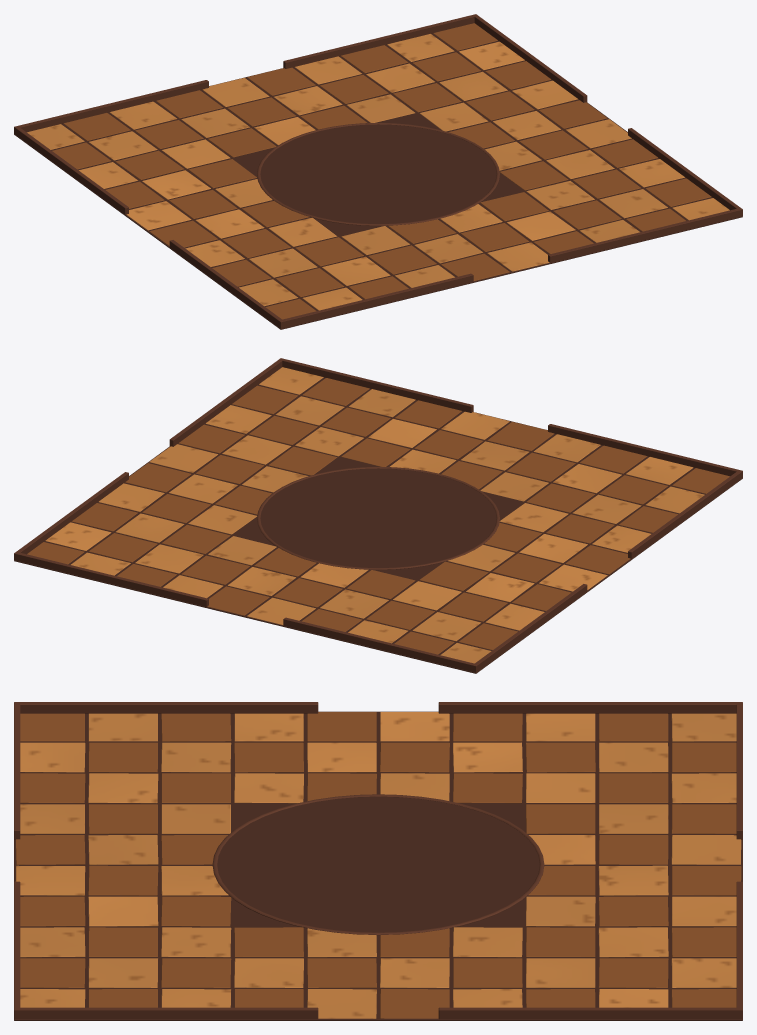
Rendered from Ground_Floor.fbx.
3 views of the same model, one above another, from view 1: azimuth 30°, elevation 25°; view 2: azimuth 150°, elevation 25°; view 3: azimuth 270°, elevation 25° (orthographic). The views are drawn at different scales.
Parts seen in each view (by area): view 1: Ground_Floor_Mesh; view 2: Ground_Floor_Mesh; view 3: Ground_Floor_Mesh.
Part boxes in pixels (<box>): Ground_Floor_Mesh: <box>14,14,742,329</box>; Ground_Floor_Mesh: <box>14,358,742,673</box>; Ground_Floor_Mesh: <box>14,702,742,1020</box>.
Size of the model in its own units: 13.9 by 0.23 by 13.9.
